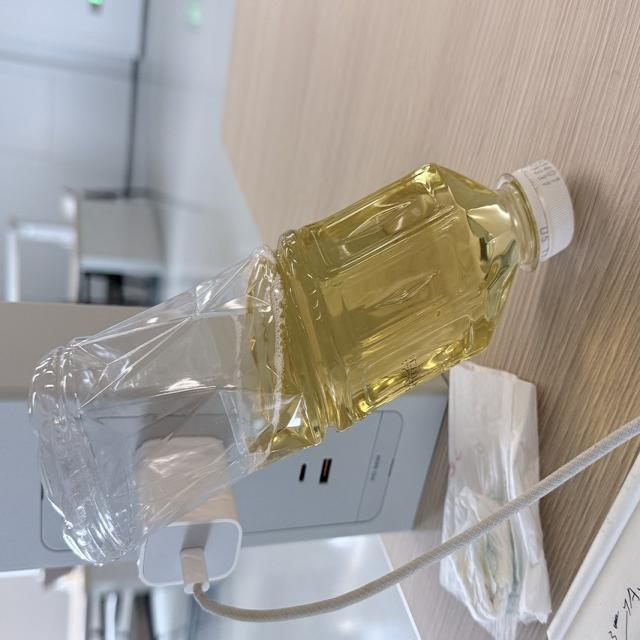medium: (29, 163, 572, 563)
